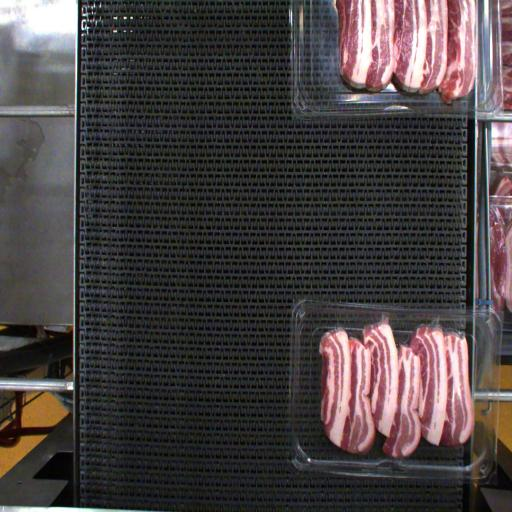packaging-error: (376, 313, 395, 325)
unsealed: (397, 316, 476, 354)
